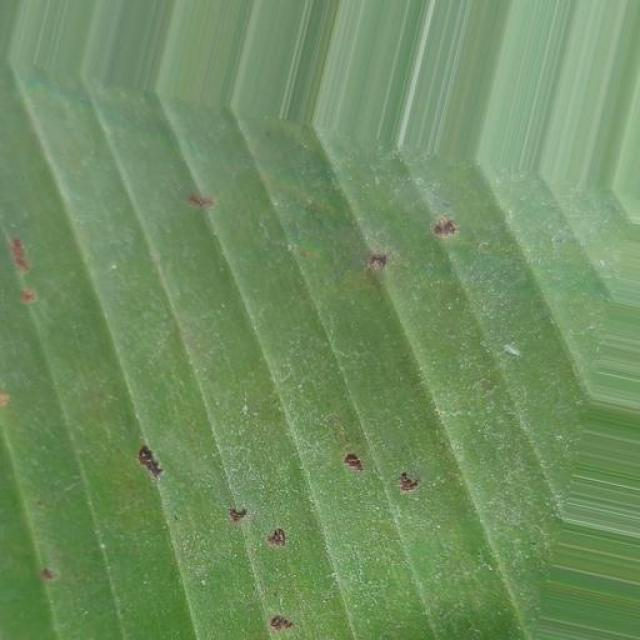Black_rot: (361, 190, 477, 284), (325, 442, 452, 517), (0, 207, 66, 346), (216, 486, 294, 573), (106, 419, 184, 495), (169, 161, 234, 245), (0, 537, 83, 597), (242, 603, 306, 639)
